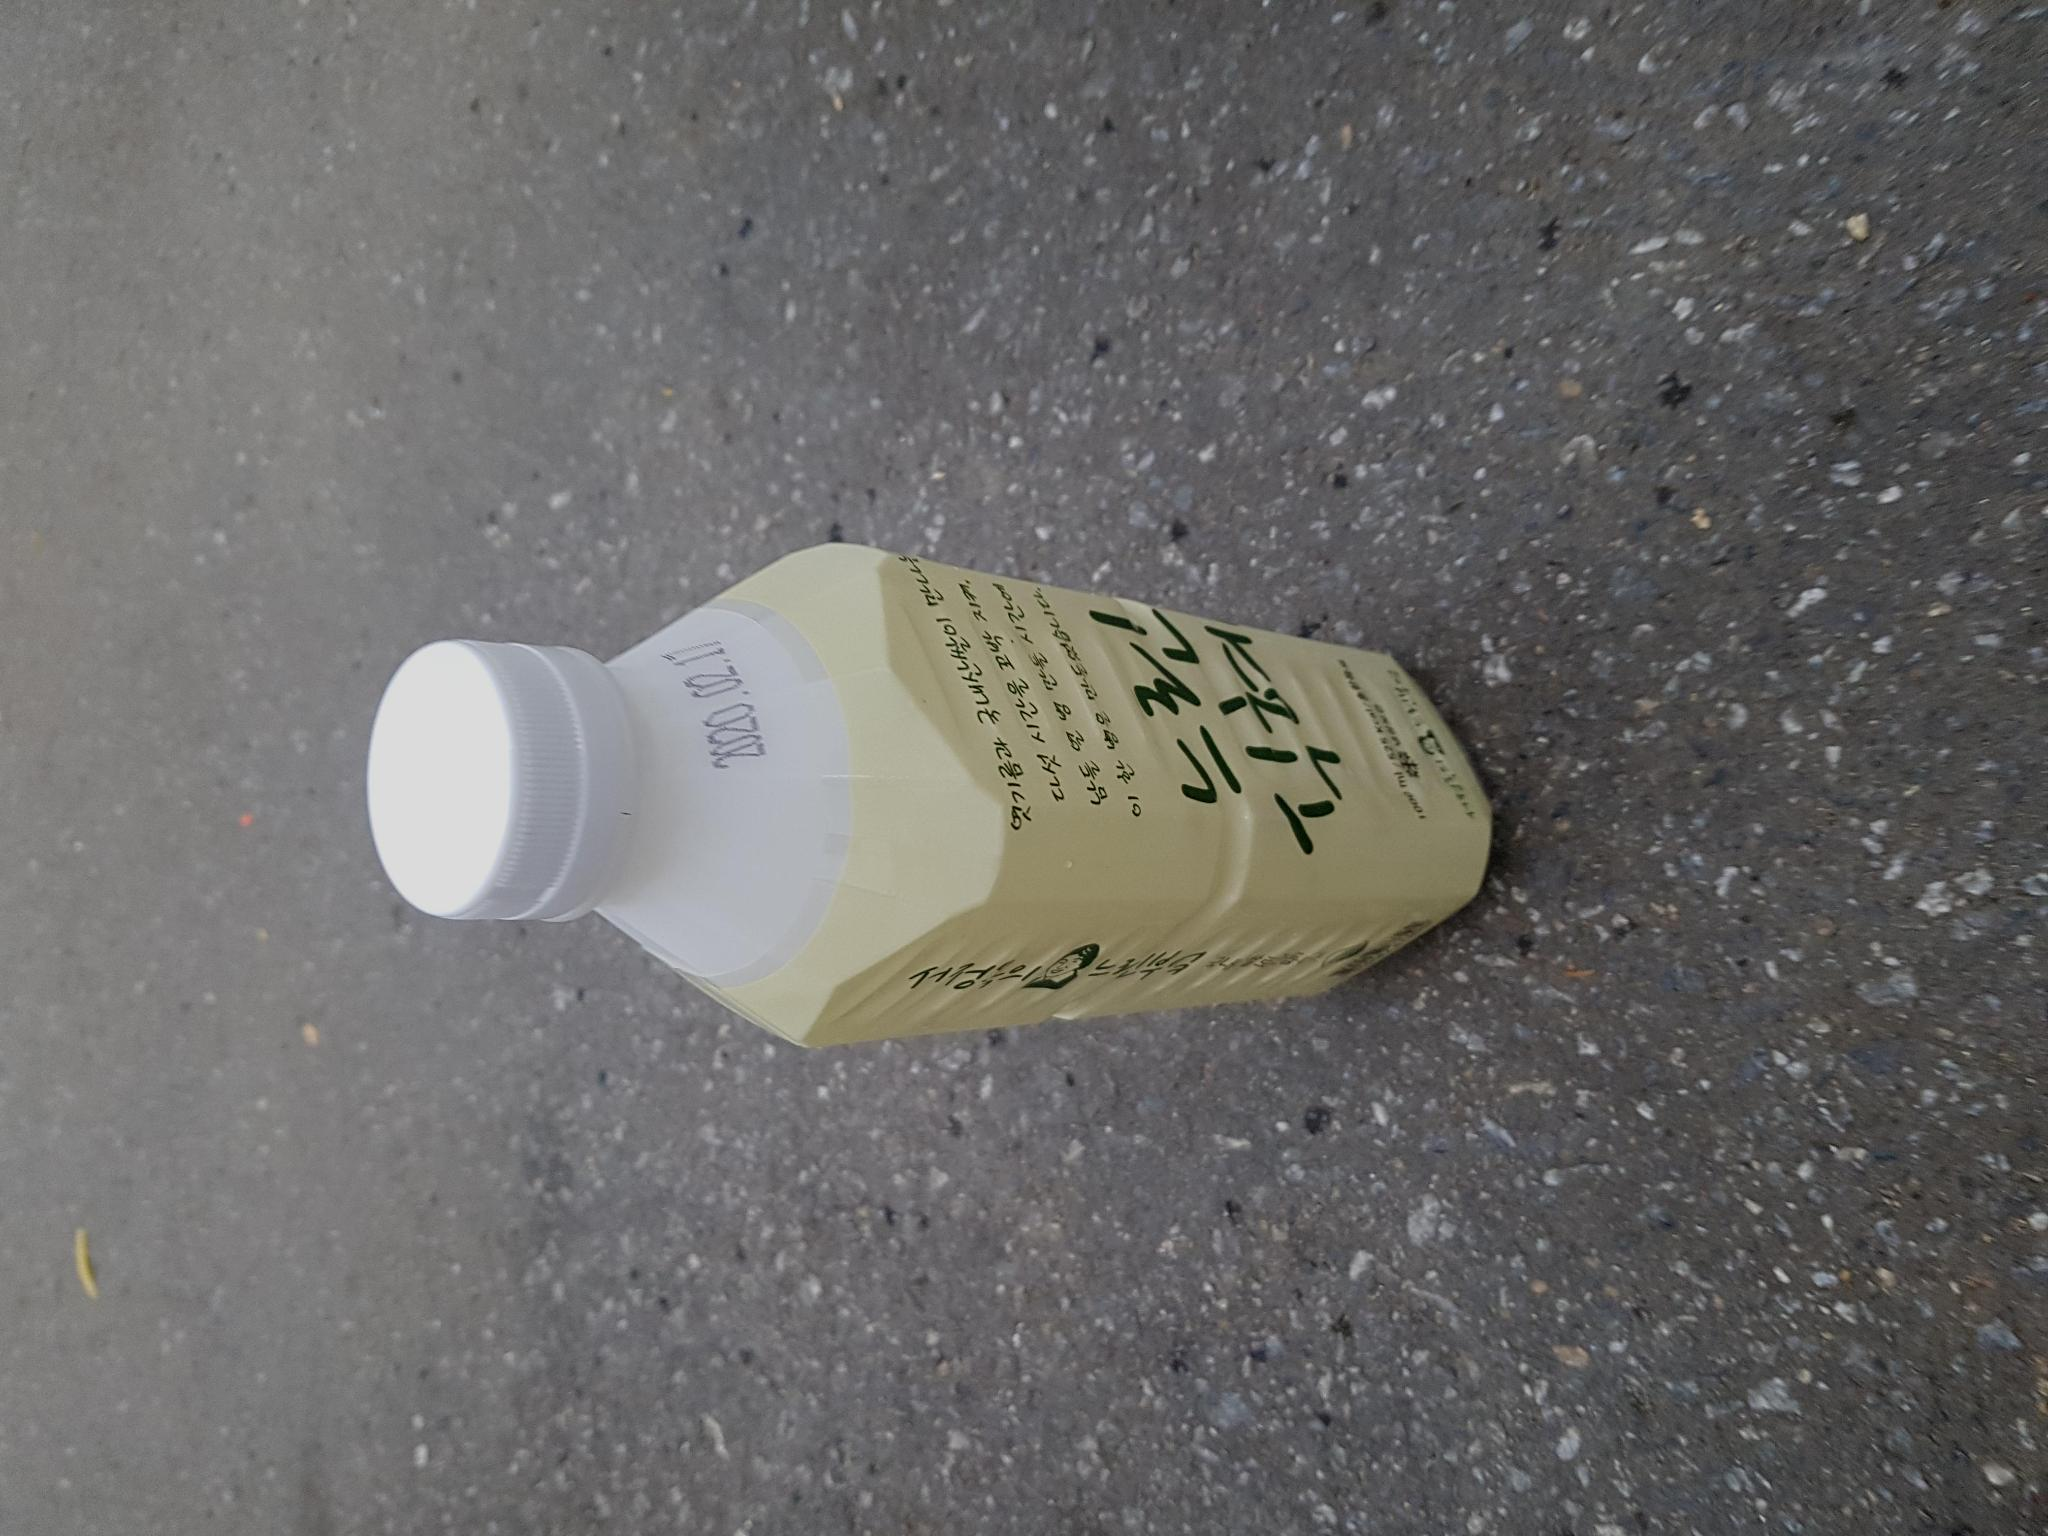bottle: (354, 524, 1502, 1086)
